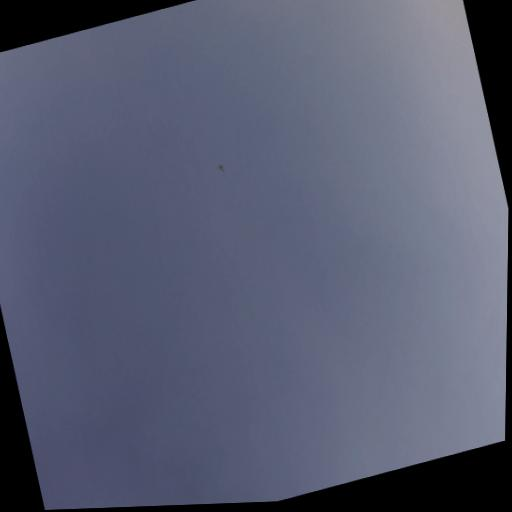drones: (216, 160, 227, 175)
